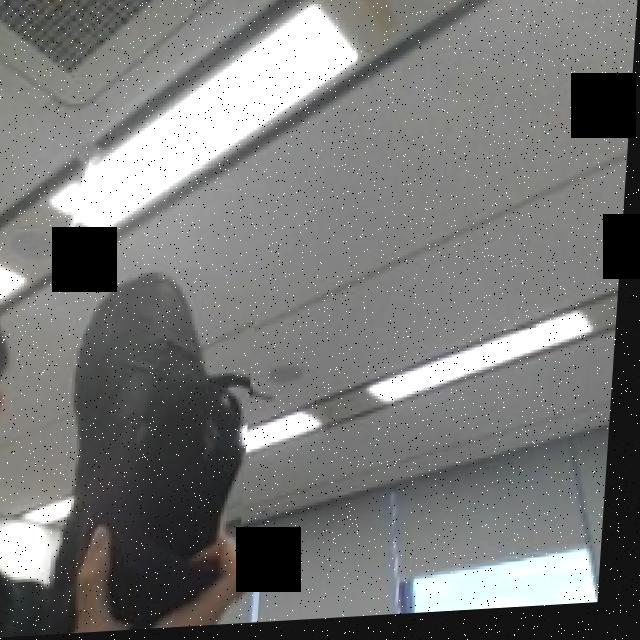shoe: (55, 267, 262, 636)
